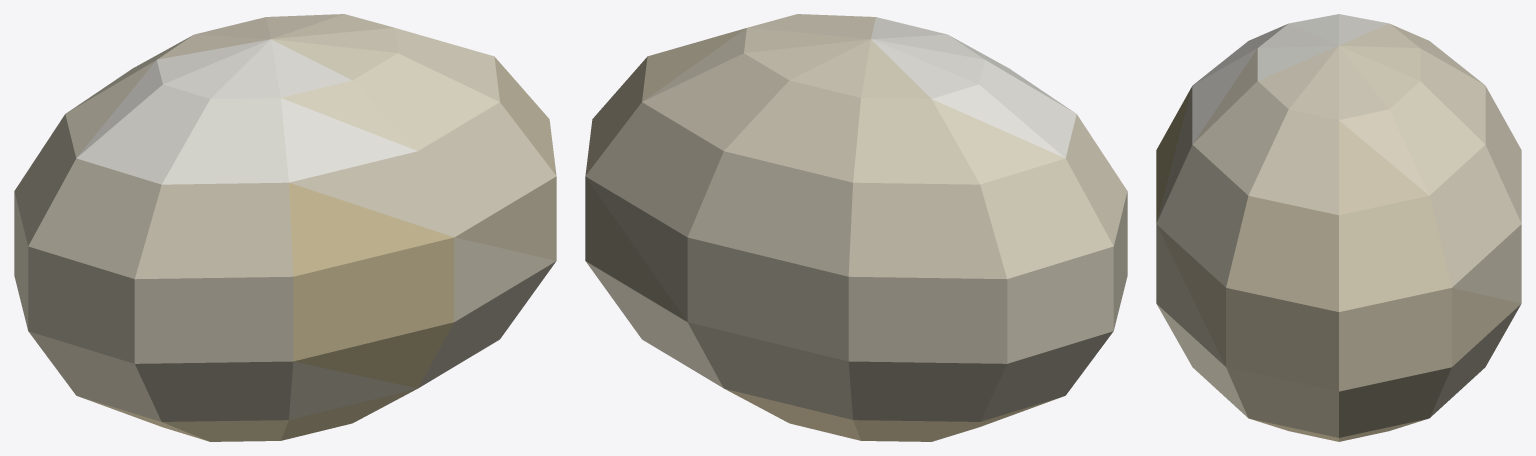
Rendered from nest-egg.glb.
3 renders of one model, left to right at view 1: azimuth 30°, elevation 25°; view 2: azimuth 150°, elevation 25°; view 3: azimuth 270°, elevation 25°, orthographic. The views are drawn at different scales.
Size of the model in its own units: 2.41 by 1.68 by 1.56.
